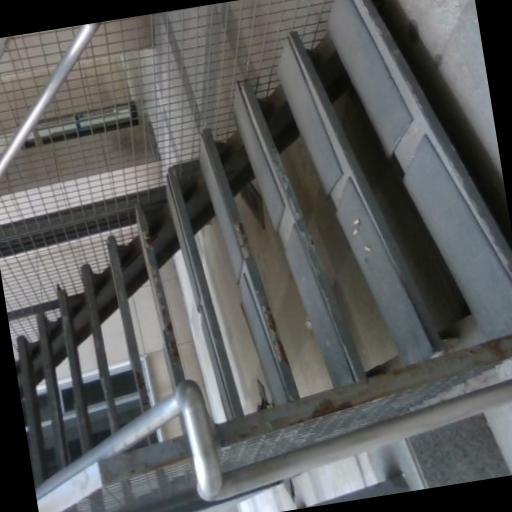stairs: (15, 0, 511, 486)
